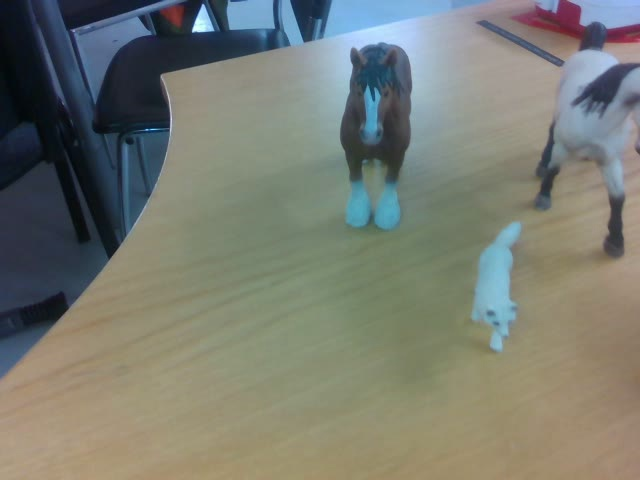toy: (340, 42, 413, 233), (472, 221, 522, 356)
